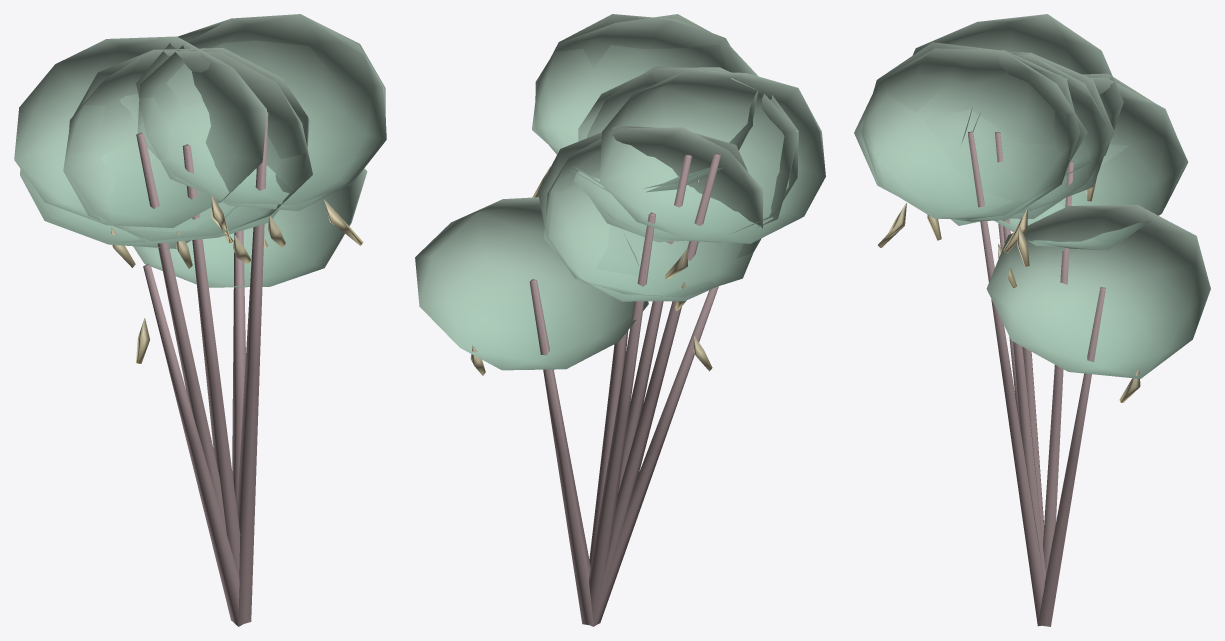
The model's file is hazel.glb.
The picture shows the model from 3 angles, left to right: view 1: azimuth 30°, elevation 25°; view 2: azimuth 150°, elevation 25°; view 3: azimuth 270°, elevation 25°; orthographic projection. The views are drawn at different scales.
Visible parts, largest first — view 1: near, far; view 2: near, far; view 3: near, far.
Part boxes in pixels (<box>): near: <box>14,14,386,626</box>; far: <box>20,14,385,264</box>; near: <box>415,14,825,626</box>; far: <box>532,14,798,297</box>; near: <box>854,14,1210,626</box>; far: <box>861,42,1188,288</box>.
Size of the model in its own units: 2.02 by 3.27 by 1.9.
